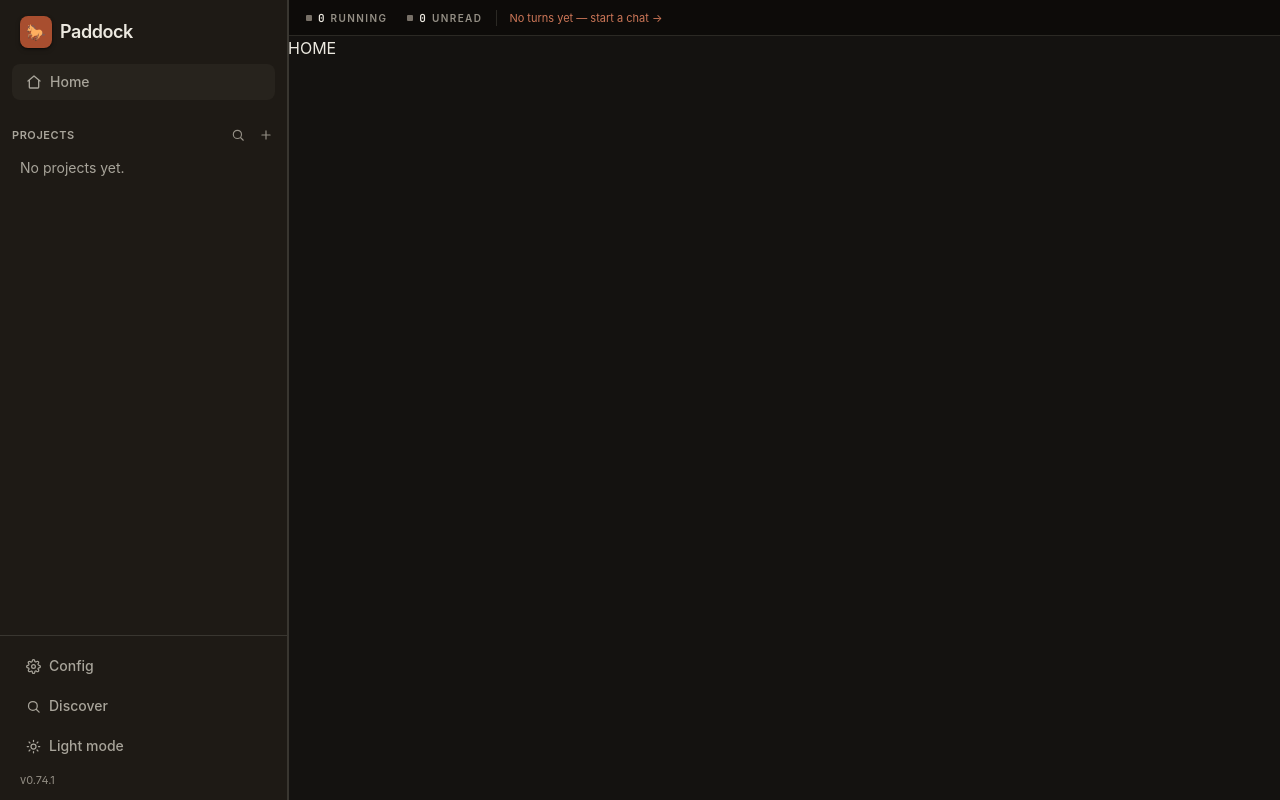
Test: AppShell: New Project (#599) › opens the New Project modal, closed until asked
Expected: the heading "New project" is not shown
Click the button named "New Project" at [266, 135], box left=253, top=124, right=279, bottom=146
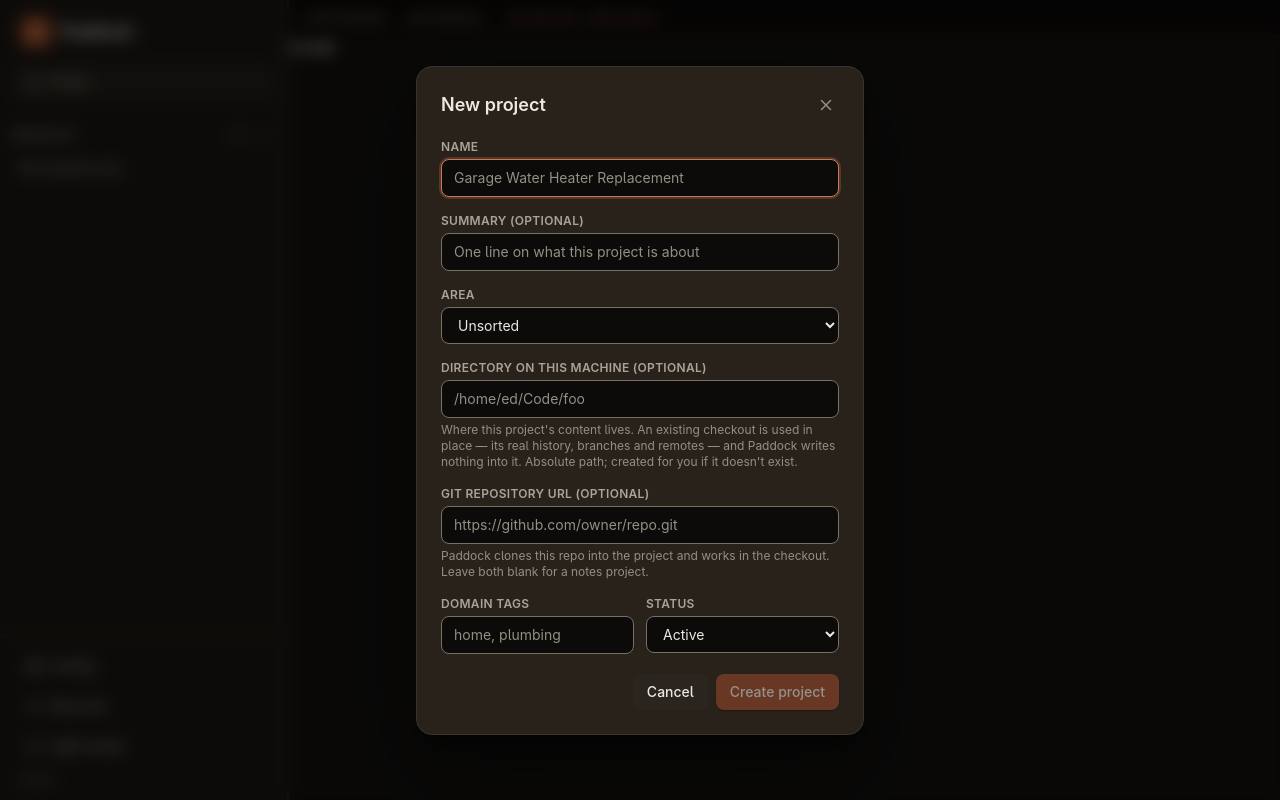
Now the heading "New project" is shown, box left=441, top=90, right=546, bottom=118
